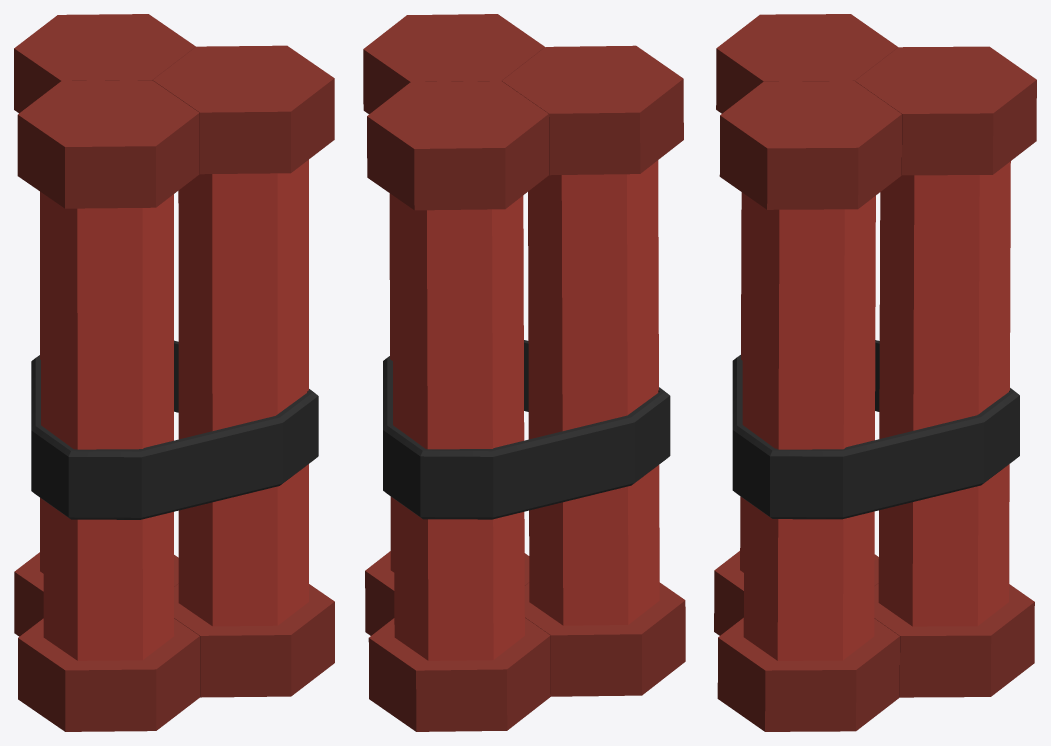
The model's file is TNT (1).fbx.
The picture shows the model from 3 angles, left to right: view 1: azimuth 30°, elevation 25°; view 2: azimuth 150°, elevation 25°; view 3: azimuth 270°, elevation 25°; orthographic projection.
Parts seen in each view (by area): view 1: Circle.004; view 2: Circle.004; view 3: Circle.004.
Part boxes in pixels (left/top/right/bottom): Circle.004: left=14, top=14, right=334, bottom=731; Circle.004: left=363, top=14, right=685, bottom=731; Circle.004: left=714, top=14, right=1036, bottom=731.
Bounding box in the file's own units: 24.52 × 49.67 × 24.84.
